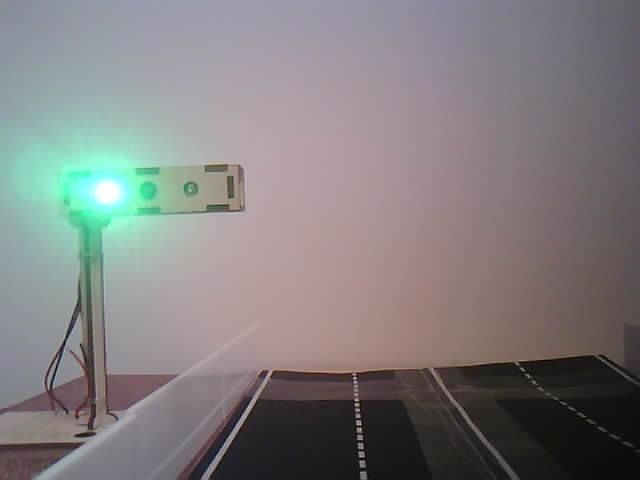green: (44, 152, 259, 384)
